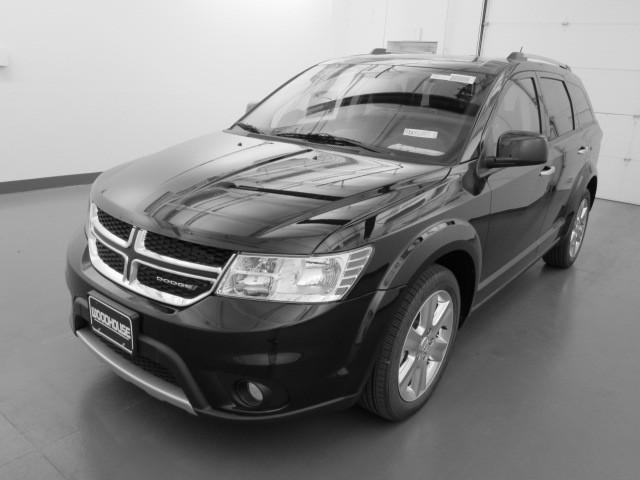car: (67, 56, 606, 427)
